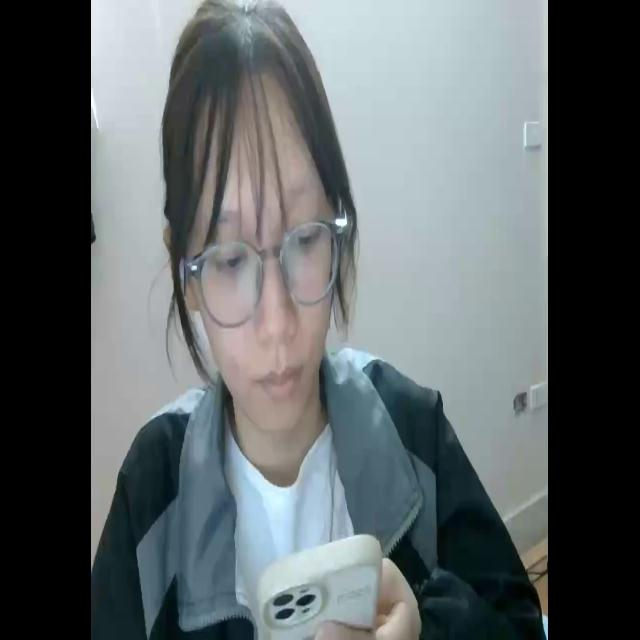phone: (251, 522, 387, 640)
student: (101, 2, 546, 640)
